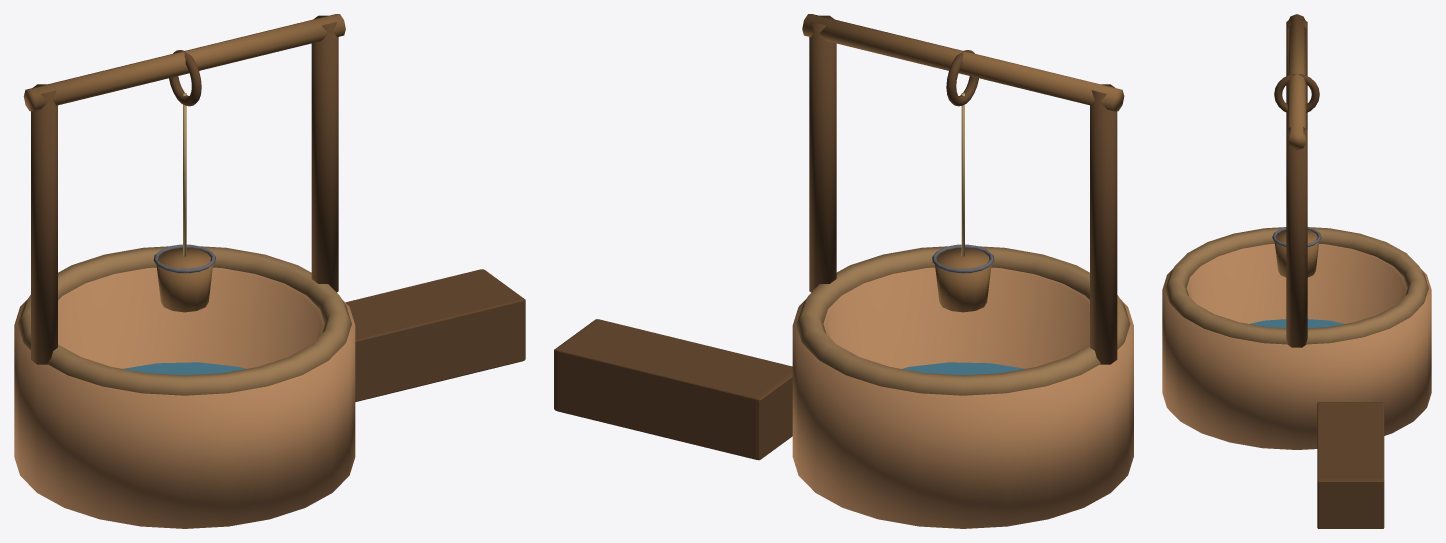
The model's file is ziehbrunnen.glb.
The picture shows the model from 3 angles, left to right: view 1: azimuth 30°, elevation 25°; view 2: azimuth 150°, elevation 25°; view 3: azimuth 270°, elevation 25°; orthographic projection. The views are drawn at different scales.
Visible parts, largest first — view 1: d; view 2: d; view 3: d.
Part boxes in pixels (bbox=[...]): d: bbox=[14, 14, 525, 528]; d: bbox=[554, 14, 1133, 528]; d: bbox=[1162, 14, 1431, 528].
Bounding box in the file's own units: 3.45 × 2.62 × 2.
